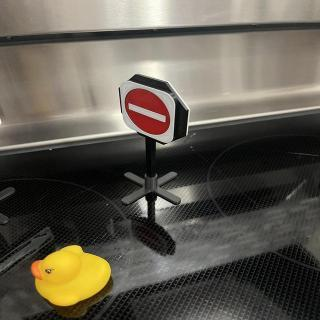duck_regular: (32, 246, 112, 312)
sign_noentry: (120, 75, 179, 145)
